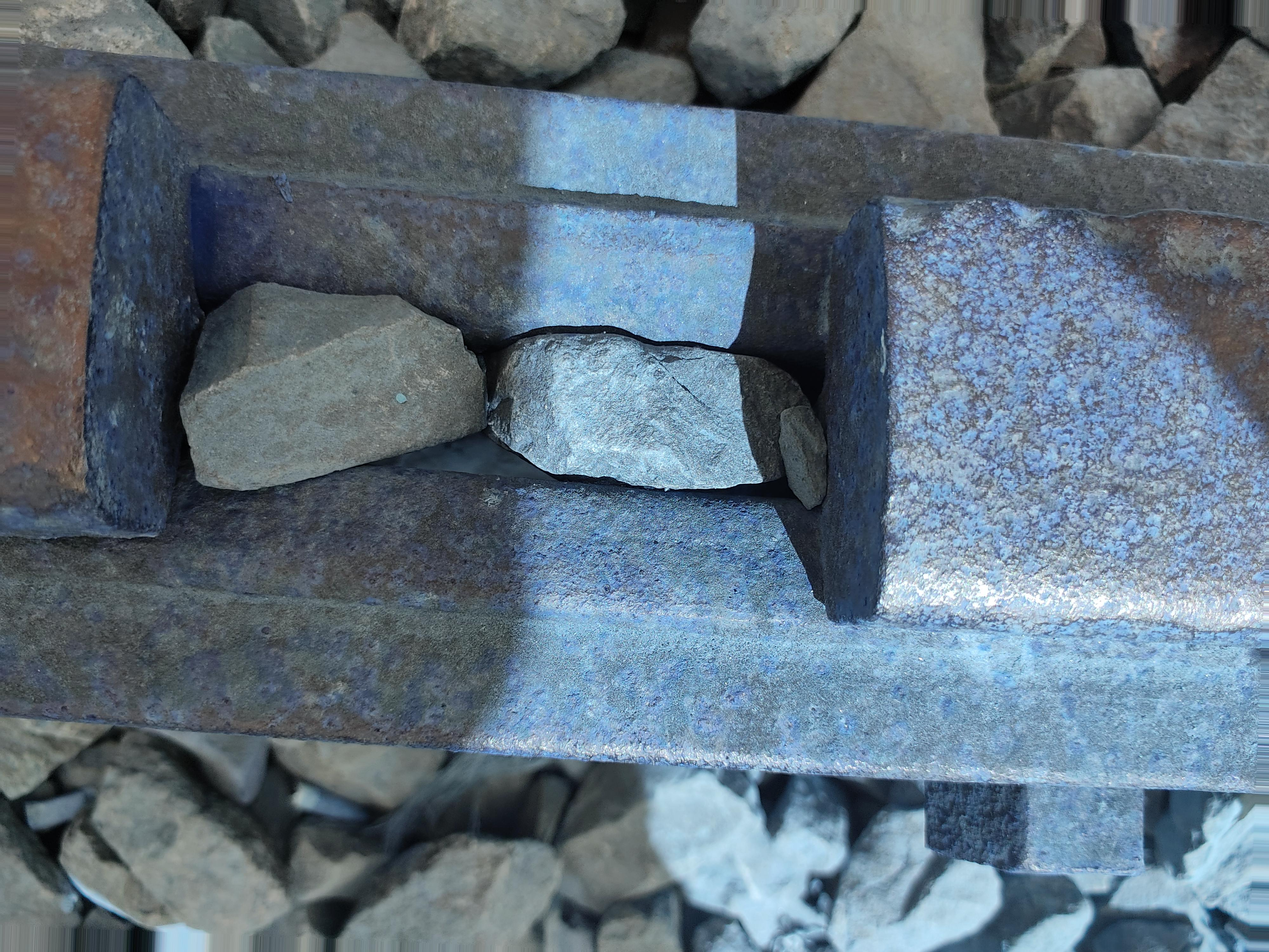tracks_fault: (41, 24, 949, 723)
